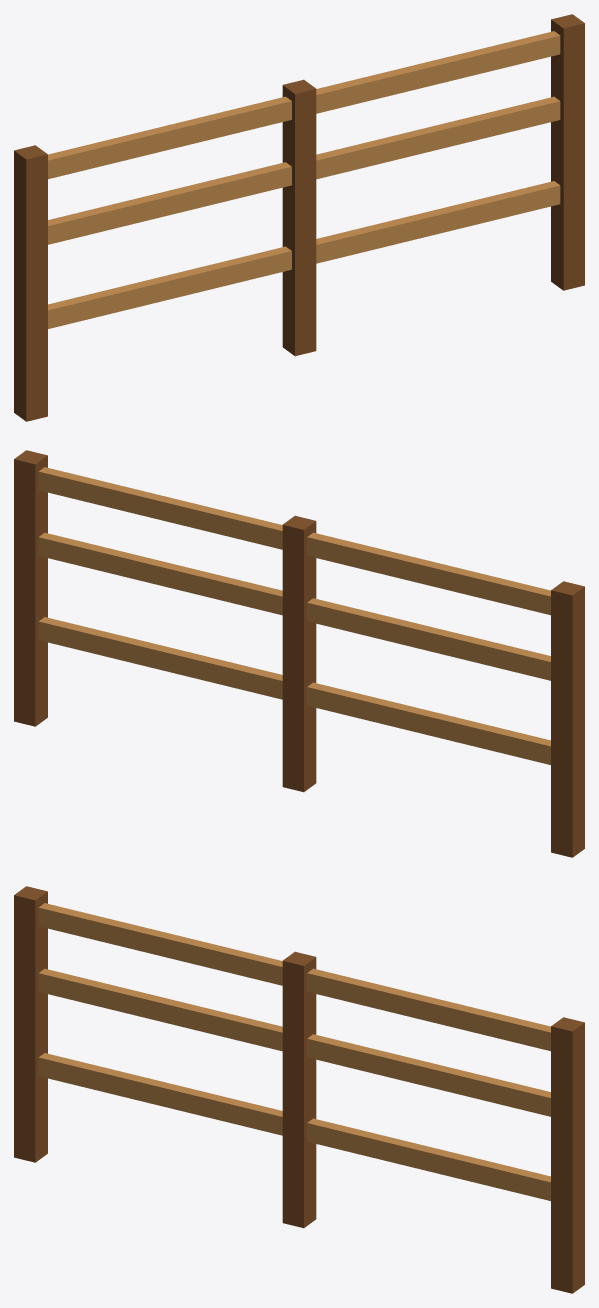
The model's file is fence_section.glb.
3 renders of one model, top to bottom at view 1: azimuth 30°, elevation 25°; view 2: azimuth 150°, elevation 25°; view 3: azimuth 330°, elevation 25°, orthographic.
Visible parts, largest first — view 1: fence_section; view 2: fence_section; view 3: fence_section.
Part boxes in pixels (x1,y1,x2,y2): fence_section: (14,14,584,421); fence_section: (14,450,584,857); fence_section: (14,886,584,1293).
Bounding box in the file's own units: 3.12 × 1.4 × 0.12.
